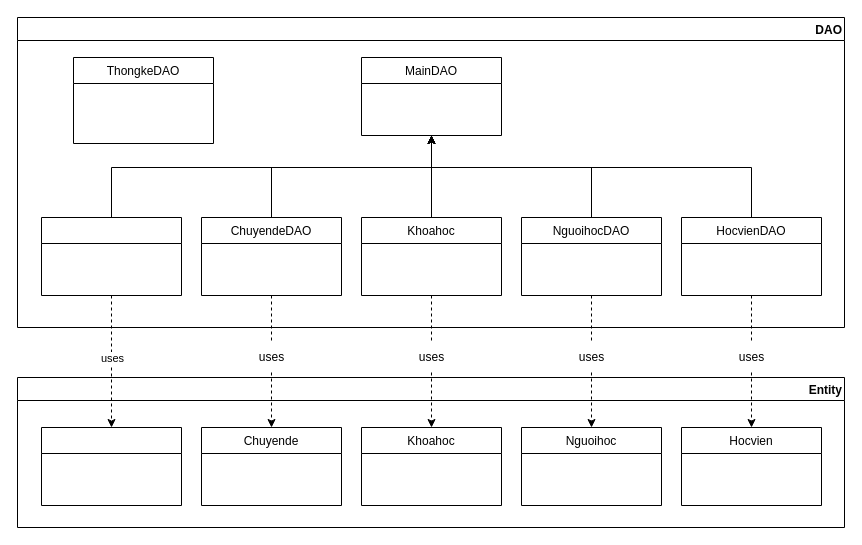
Image size: 862x545. Some labels were removed from this diagram. Here are the shapes that lost their labels. From the top down, the centre of each, then its label:
At point (111, 256): "NhanvienDAO".
At point (111, 466): "Nhanvien".
